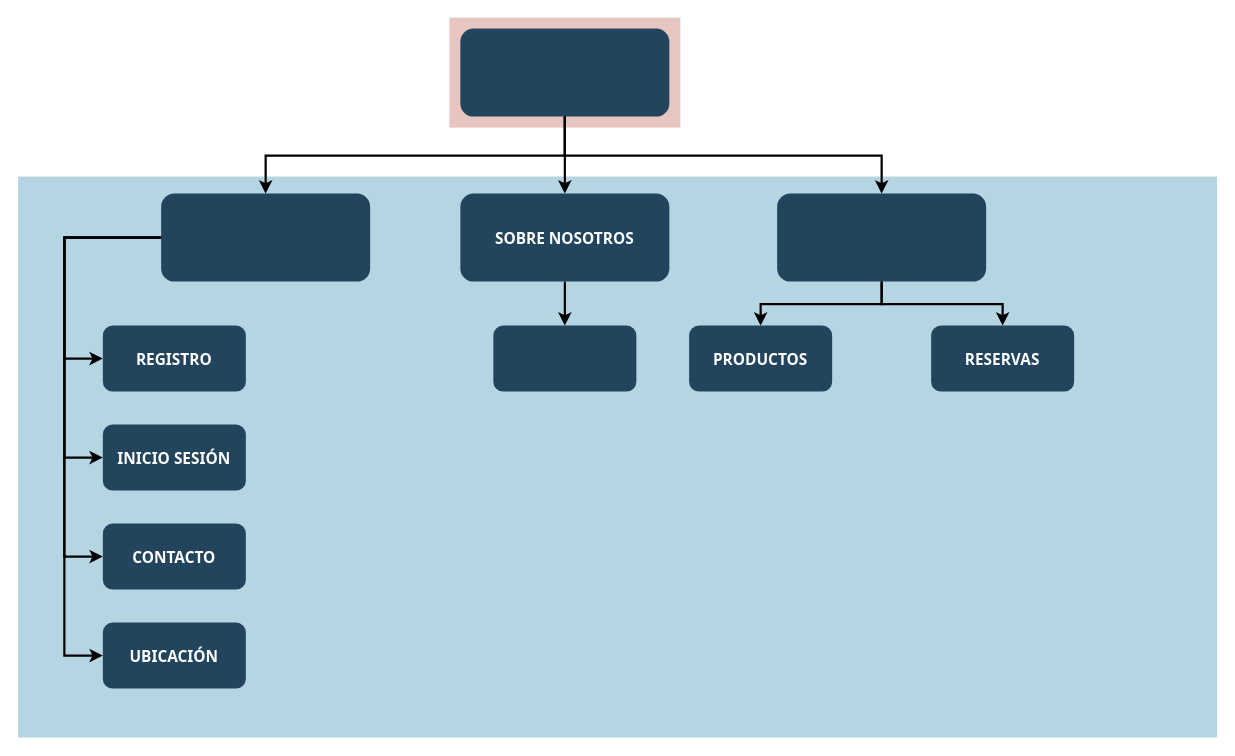
Image size: 1235x756. Some labels were removed from this diagram. The shapes that lost their labels are listed below. From the top down, each one's centre as x and y in pixels, then its label:
At point 564,72: "HOME PAGE".
At point 265,237: "INDEX".
At point 881,237: "SERVICIOS".
At point 564,358: "QUIENES SOMOS".
